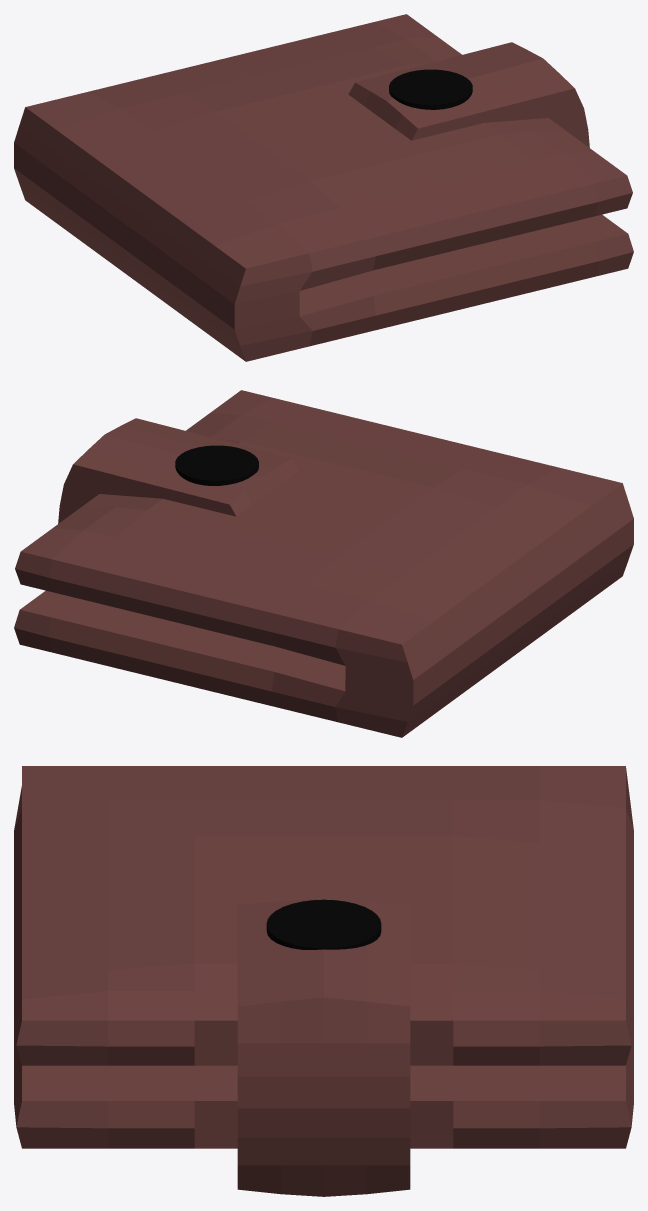
Rendered from wallet.glb.
The picture shows the model from 3 angles, top to bottom: view 1: azimuth 30°, elevation 25°; view 2: azimuth 150°, elevation 25°; view 3: azimuth 270°, elevation 25°; orthographic projection. The views are drawn at different scales.
Visible parts, largest first — view 1: Plane, Circle; view 2: Plane, Circle; view 3: Plane, Circle.
Part boxes in pixels (x1,y1,x2,y2): Plane: [14, 14, 633, 361]; Circle: [389, 69, 472, 109]; Plane: [14, 390, 633, 737]; Circle: [175, 445, 258, 485]; Plane: [14, 766, 633, 1196]; Circle: [266, 899, 381, 949].
Size of the model in its own units: 2.27 by 0.7288 by 2.05.
